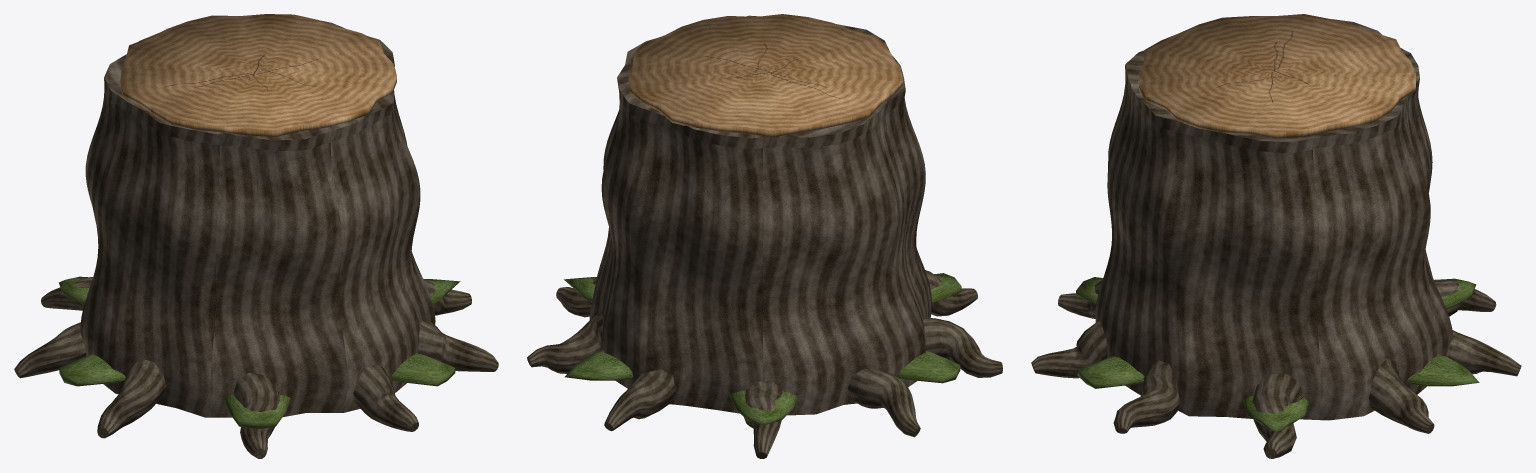
Rendered from PZ_FallenWood_05_SawCut_OakStump_0p7m.glb.
3 renders of one model, left to right at view 1: azimuth 30°, elevation 25°; view 2: azimuth 150°, elevation 25°; view 3: azimuth 270°, elevation 25°, orthographic.
Parts seen in each view (by area): view 1: 05_SawCut_OakStump_0p7m_TrunkBark_MESH, 05_SawCut_OakStump_0p7m_CutFaceRings_MESH, 05_SawCut_OakStump_0p7m_ButtressRoot_05_MESH, 05_SawCut_OakStump_0p7m_ButtressRoot_07_MESH, 05_SawCut_OakStump_0p7m_ButtressRoot_08_MESH, 05_SawCut_OakStump_0p7m_ButtressRoot_06_MESH, 05_SawCut_OakStump_0p7m_ButtressRoot_04_MESH, 05_SawCut_OakStump_0p7m_MossAtBase_3_MESH, 05_SawCut_OakStump_0p7m_MossAtBase_5_MESH, 05_SawCut_OakStump_0p7m_MossAtBase_4_MESH, 05_SawCut_OakStump_0p7m_ButtressRoot_00_MESH, 05_SawCut_OakStump_0p7m_ButtressRoot_03_MESH (+1 smaller); view 2: 05_SawCut_OakStump_0p7m_TrunkBark_MESH, 05_SawCut_OakStump_0p7m_CutFaceRings_MESH, 05_SawCut_OakStump_0p7m_ButtressRoot_04_MESH, 05_SawCut_OakStump_0p7m_ButtressRoot_05_MESH, 05_SawCut_OakStump_0p7m_ButtressRoot_02_MESH, 05_SawCut_OakStump_0p7m_ButtressRoot_01_MESH, 05_SawCut_OakStump_0p7m_ButtressRoot_03_MESH, 05_SawCut_OakStump_0p7m_MossAtBase_1_MESH, 05_SawCut_OakStump_0p7m_MossAtBase_3_MESH, 05_SawCut_OakStump_0p7m_MossAtBase_2_MESH, 05_SawCut_OakStump_0p7m_ButtressRoot_06_MESH, 05_SawCut_OakStump_0p7m_ButtressRoot_00_MESH (+1 smaller); view 3: 05_SawCut_OakStump_0p7m_TrunkBark_MESH, 05_SawCut_OakStump_0p7m_CutFaceRings_MESH, 05_SawCut_OakStump_0p7m_ButtressRoot_08_MESH, 05_SawCut_OakStump_0p7m_ButtressRoot_01_MESH, 05_SawCut_OakStump_0p7m_ButtressRoot_00_MESH, 05_SawCut_OakStump_0p7m_ButtressRoot_07_MESH, 05_SawCut_OakStump_0p7m_ButtressRoot_02_MESH, 05_SawCut_OakStump_0p7m_MossAtBase_5_MESH, 05_SawCut_OakStump_0p7m_MossAtBase_1_MESH, 05_SawCut_OakStump_0p7m_MossAtBase_0_MESH, 05_SawCut_OakStump_0p7m_ButtressRoot_03_MESH, 05_SawCut_OakStump_0p7m_ButtressRoot_06_MESH (+1 smaller).
Part boxes in pixels (<box>): 05_SawCut_OakStump_0p7m_TrunkBark_MESH: <box>80,20,435,417</box>; 05_SawCut_OakStump_0p7m_CutFaceRings_MESH: <box>120,14,396,136</box>; 05_SawCut_OakStump_0p7m_ButtressRoot_05_MESH: <box>97,359,166,438</box>; 05_SawCut_OakStump_0p7m_ButtressRoot_07_MESH: <box>353,364,418,431</box>; 05_SawCut_OakStump_0p7m_ButtressRoot_08_MESH: <box>417,317,498,371</box>; 05_SawCut_OakStump_0p7m_ButtressRoot_06_MESH: <box>233,373,279,458</box>; 05_SawCut_OakStump_0p7m_ButtressRoot_04_MESH: <box>14,322,86,378</box>; 05_SawCut_OakStump_0p7m_MossAtBase_3_MESH: <box>59,354,125,386</box>; 05_SawCut_OakStump_0p7m_MossAtBase_5_MESH: <box>391,353,455,386</box>; 05_SawCut_OakStump_0p7m_MossAtBase_4_MESH: <box>224,394,291,429</box>; 05_SawCut_OakStump_0p7m_ButtressRoot_00_MESH: <box>423,279,471,315</box>; 05_SawCut_OakStump_0p7m_ButtressRoot_03_MESH: <box>41,277,93,310</box>; 05_SawCut_OakStump_0p7m_TrunkBark_MESH: <box>589,15,931,415</box>; 05_SawCut_OakStump_0p7m_CutFaceRings_MESH: <box>628,14,902,137</box>; 05_SawCut_OakStump_0p7m_ButtressRoot_04_MESH: <box>847,368,920,437</box>; 05_SawCut_OakStump_0p7m_ButtressRoot_05_MESH: <box>923,317,1002,377</box>; 05_SawCut_OakStump_0p7m_ButtressRoot_02_MESH: <box>604,369,676,431</box>; 05_SawCut_OakStump_0p7m_ButtressRoot_01_MESH: <box>527,314,603,373</box>; 05_SawCut_OakStump_0p7m_ButtressRoot_03_MESH: <box>744,381,783,458</box>; 05_SawCut_OakStump_0p7m_MossAtBase_1_MESH: <box>564,350,633,380</box>; 05_SawCut_OakStump_0p7m_MossAtBase_3_MESH: <box>897,350,960,383</box>; 05_SawCut_OakStump_0p7m_MossAtBase_2_MESH: <box>729,390,798,424</box>; 05_SawCut_OakStump_0p7m_ButtressRoot_06_MESH: <box>925,270,977,316</box>; 05_SawCut_OakStump_0p7m_ButtressRoot_00_MESH: <box>556,277,596,317</box>; 05_SawCut_OakStump_0p7m_TrunkBark_MESH: <box>1095,19,1453,420</box>; 05_SawCut_OakStump_0p7m_CutFaceRings_MESH: <box>1138,14,1415,138</box>; 05_SawCut_OakStump_0p7m_ButtressRoot_08_MESH: <box>1113,360,1179,433</box>; 05_SawCut_OakStump_0p7m_ButtressRoot_01_MESH: <box>1368,358,1434,433</box>; 05_SawCut_OakStump_0p7m_ButtressRoot_00_MESH: <box>1252,373,1303,458</box>; 05_SawCut_OakStump_0p7m_ButtressRoot_07_MESH: <box>1031,321,1107,378</box>; 05_SawCut_OakStump_0p7m_ButtressRoot_02_MESH: <box>1446,330,1521,376</box>; 05_SawCut_OakStump_0p7m_MossAtBase_5_MESH: <box>1077,356,1144,388</box>; 05_SawCut_OakStump_0p7m_MossAtBase_1_MESH: <box>1406,355,1479,386</box>; 05_SawCut_OakStump_0p7m_MossAtBase_0_MESH: <box>1243,396,1309,432</box>; 05_SawCut_OakStump_0p7m_ButtressRoot_03_MESH: <box>1434,280,1496,316</box>; 05_SawCut_OakStump_0p7m_ButtressRoot_06_MESH: <box>1058,280,1102,318</box>.
Size of the model in its own units: 1.14 by 0.7645 by 1.17.
4 materials, 4 textured.
